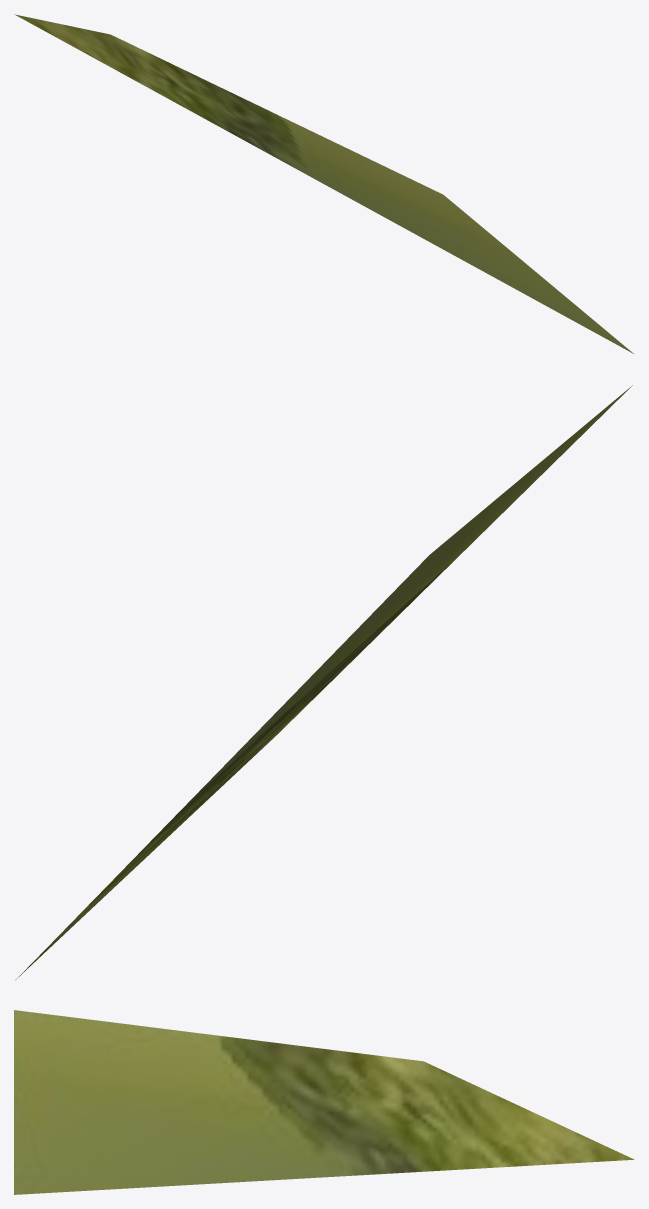
3 views of the same model, one above another, from view 1: azimuth 30°, elevation 25°; view 2: azimuth 150°, elevation 25°; view 3: azimuth 270°, elevation 25° (orthographic). The views are drawn at different scales.
Bounding box in the file's own units: 0.3321 × 0.3425 × 1.51.
1 material, 1 textured.
